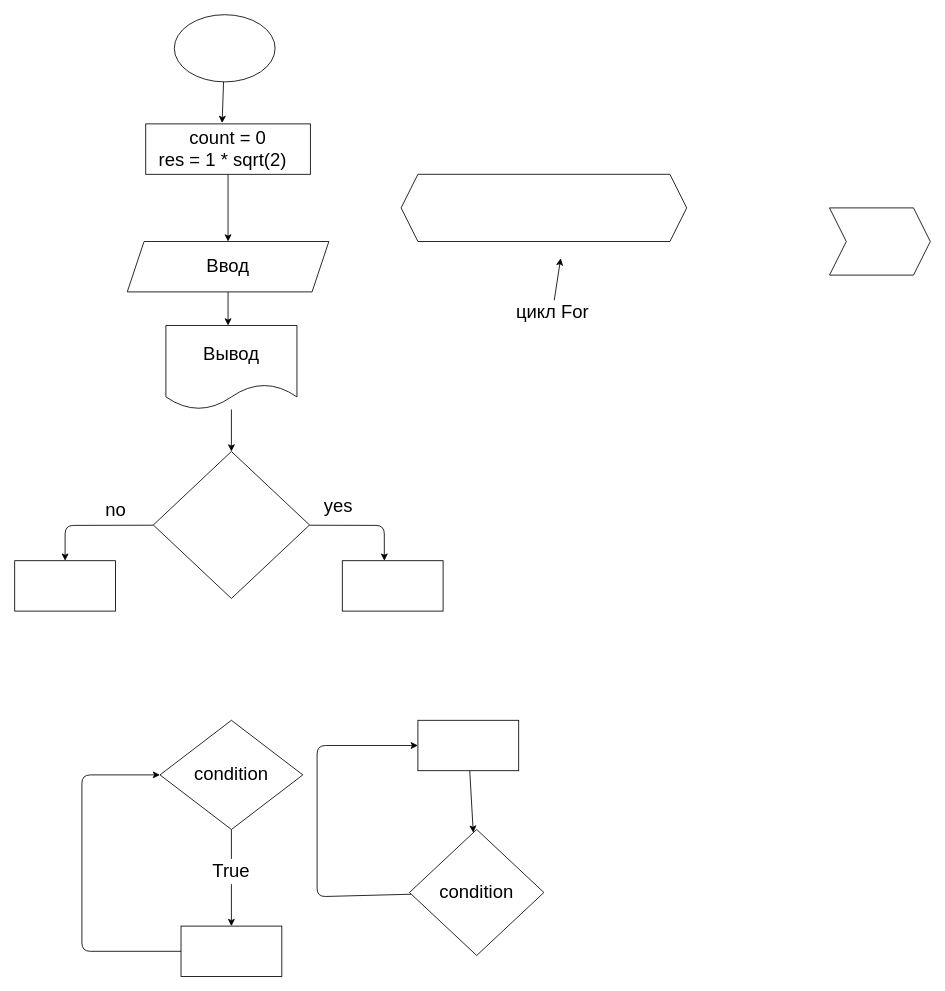
Image size: 945x991. Some labels were removed from this diagram. The box of each missing label's shape, as (x1, y1, x2, y2) in pixels:
count = 1, 10, 5: (400, 173, 687, 242)
Start end: (173, 14, 275, 82)
Условие: (152, 451, 310, 598)
